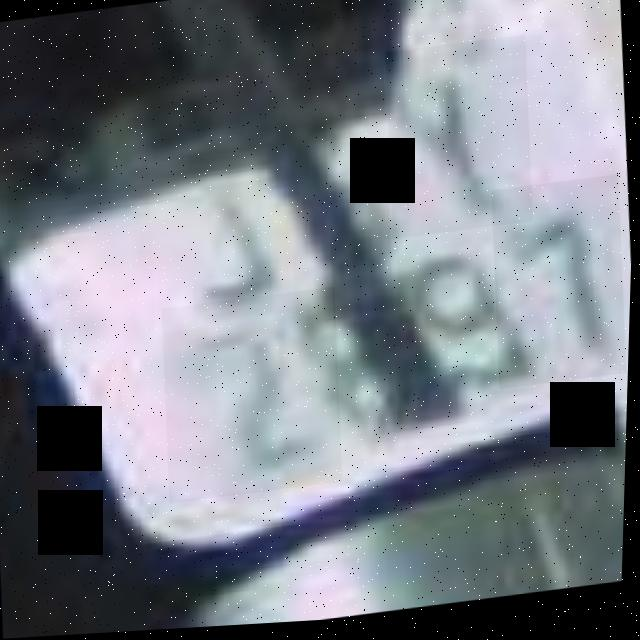4: (264, 223, 478, 474)
5: (159, 290, 349, 506)
7: (488, 181, 634, 396)
9: (401, 218, 559, 419)
J: (145, 147, 301, 335)
X: (381, 40, 538, 244)
